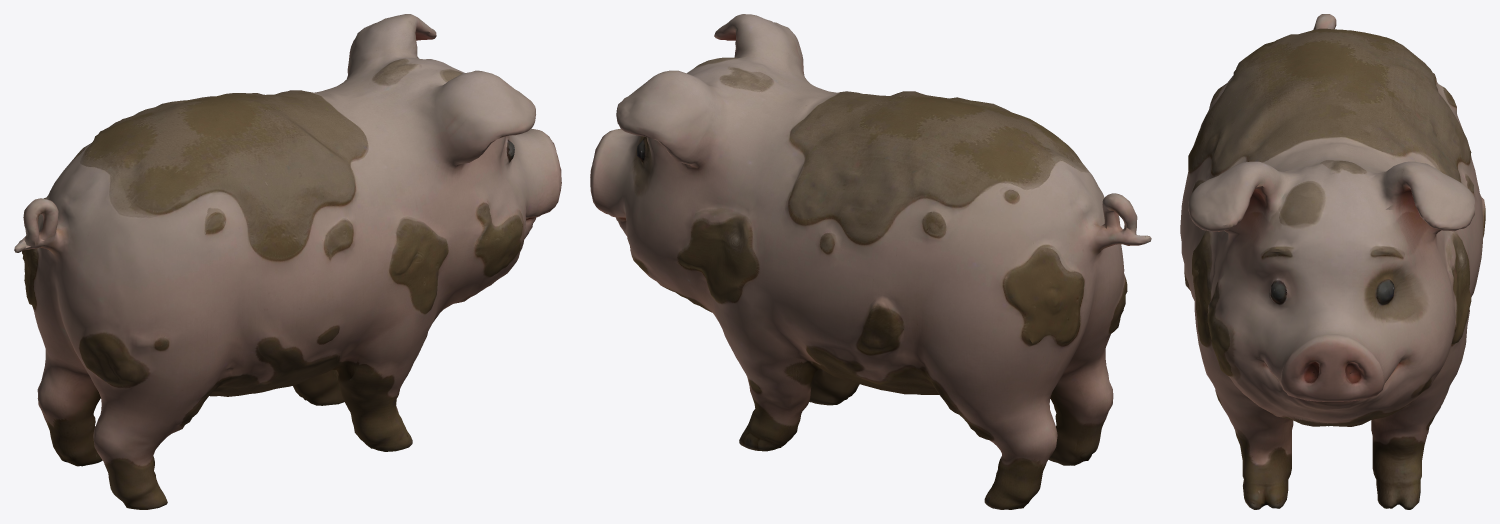
File: cute_stylized_pig_low_poly_game_ready.glb
3 views of the same model, side by side, from view 1: azimuth 30°, elevation 25°; view 2: azimuth 150°, elevation 25°; view 3: azimuth 270°, elevation 25° (orthographic). The views are drawn at different scales.
Parts seen in each view (by area): view 1: 7551745f-5d4c-4dee-addf-c4548ffff00a_1; view 2: 7551745f-5d4c-4dee-addf-c4548ffff00a_1; view 3: 7551745f-5d4c-4dee-addf-c4548ffff00a_1.
Part boxes in pixels (left/top/right/bottom): 7551745f-5d4c-4dee-addf-c4548ffff00a_1: left=14, top=14, right=561, bottom=509; 7551745f-5d4c-4dee-addf-c4548ffff00a_1: left=590, top=14, right=1151, bottom=509; 7551745f-5d4c-4dee-addf-c4548ffff00a_1: left=1180, top=14, right=1485, bottom=509.
Bounding box in the file's own units: 0.9916 × 0.6261 × 0.4569.
Materials: 1 (1 with a texture image).
